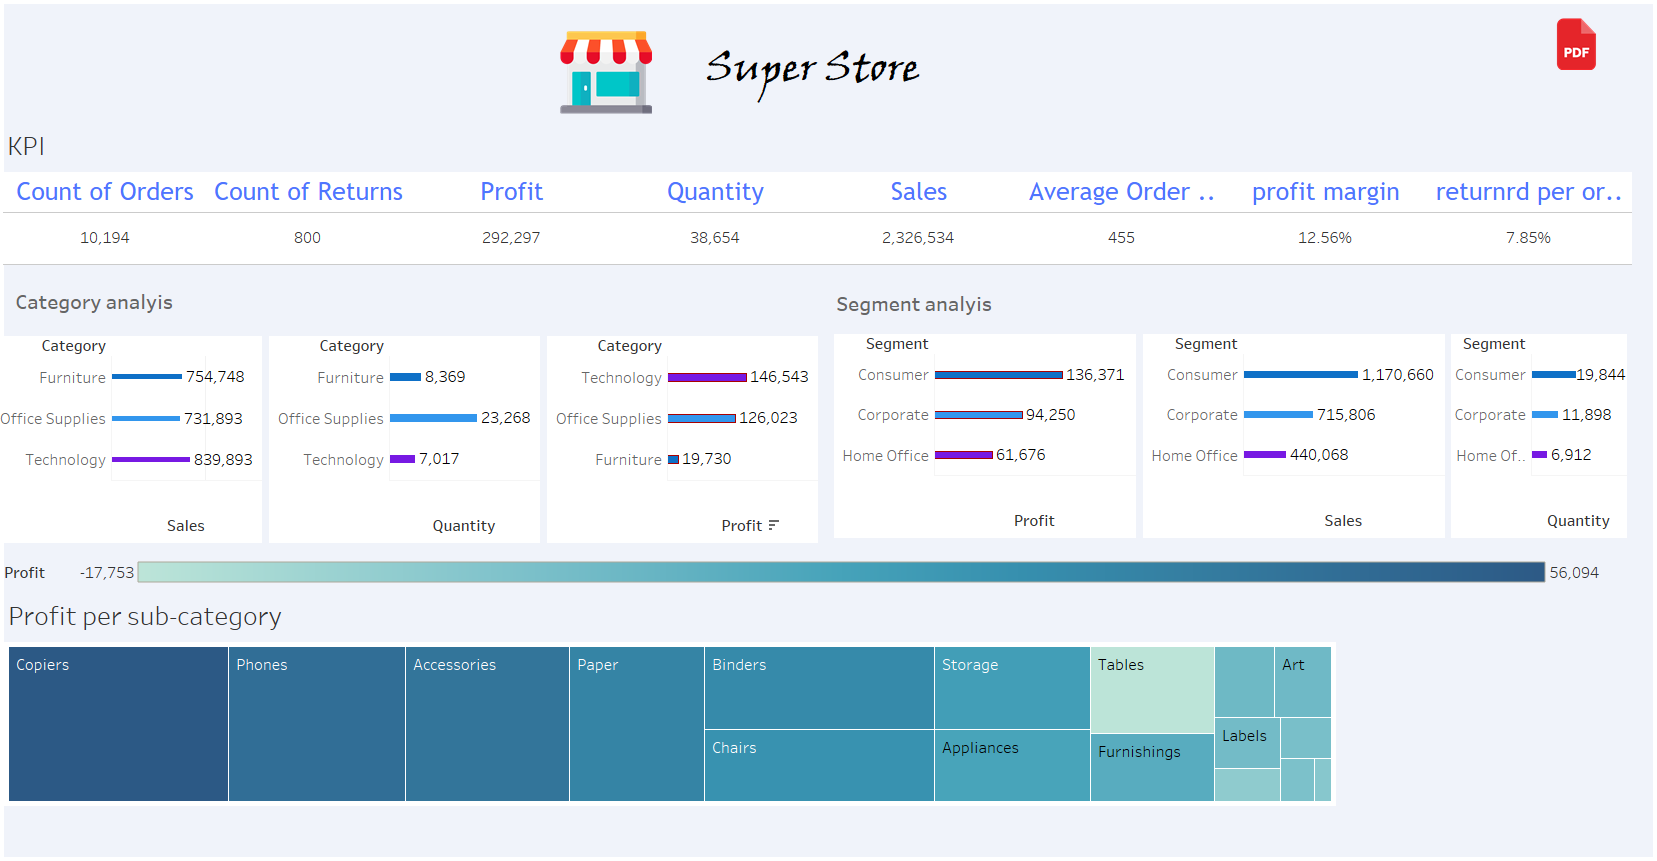

This screenshot's page, from the dashboard's own definition file:
{"tool":"tableau","page":{"name":"overview","canvas":[1000,1000],"units":"permille","ordinal":1},"visuals":[{"type":"blank","box":[0,0,1000,1000]},{"type":"image","param":"Image/store.png","box":[335.6,25.6,86.3,116.1]},{"type":"text","box":[421.8,25.6,300.6,116.1]},{"type":"worksheet","title":"kpi","mark":"Automatic","box":[1.8,141.7,983.1,166.1]},{"type":"text","box":[7.2,319.4,151.5,60.4]},{"type":"text","box":[502.7,319.4,137.6,65]},{"type":"worksheet","title":"profit by segment","mark":"Automatic","rows":["Segment"],"cols":["Profit"],"box":[500.9,383.3,186.2,246.2]},{"type":"worksheet","title":"sales by segment","mark":"Automatic","rows":["Segment"],"cols":["Sales"],"box":[687.1,383.3,186.2,246.2]},{"type":"worksheet","title":"quantity by segment","mark":"Automatic","rows":["Segment"],"cols":["Quantity"],"box":[873.3,383.3,110.4,246.2]},{"type":"worksheet","title":"quantity by category","mark":"Automatic","rows":["Category"],"cols":["Quantity"],"box":[159.9,385.6,167.8,250.9]},{"type":"worksheet","title":" profit by category","mark":"Automatic","rows":["Category"],"cols":["Profit"],"box":[327.7,385.6,167.8,250.9]},{"type":"legend","title":"tree map","param":"[federated.020sox019ofx2611gkg3m18xnwuy].[sum:Profit:qk]","box":[0,643.4,970.4,39.5]},{"type":"worksheet","title":"tree map","mark":"Automatic","box":[0,682.9,970.4,256.7]}]}

Visuals, with their boxes on the dashboard's canvas, which has no fixed pixel size, in thousandths of its width and height (x1, y1, x2, y2). These are canvas units, not pixel positions in the 1657x861 screenshot, which may show the page scaled, cropped or inside an application window:
blank: <region>0, 0, 1000, 1000</region>
image: <region>336, 26, 422, 142</region>
text: <region>422, 26, 722, 142</region>
"kpi" worksheet: <region>2, 142, 985, 308</region>
text: <region>7, 319, 159, 380</region>
text: <region>503, 319, 640, 384</region>
"profit by segment" worksheet: <region>501, 383, 687, 630</region>
"sales by segment" worksheet: <region>687, 383, 873, 630</region>
"quantity by segment" worksheet: <region>873, 383, 984, 630</region>
"quantity by category" worksheet: <region>160, 386, 328, 636</region>
" profit by category" worksheet: <region>328, 386, 496, 636</region>
"tree map" legend: <region>0, 643, 970, 683</region>
"tree map" worksheet: <region>0, 683, 970, 940</region>
